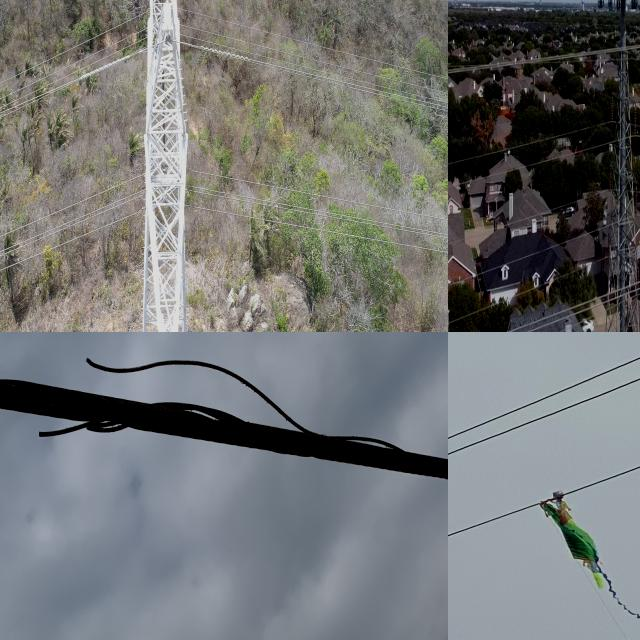杆塔: (139, 0, 198, 332), (594, 0, 640, 332)
植被遮挡: (536, 489, 640, 619)
电缆破损: (27, 332, 412, 477)
